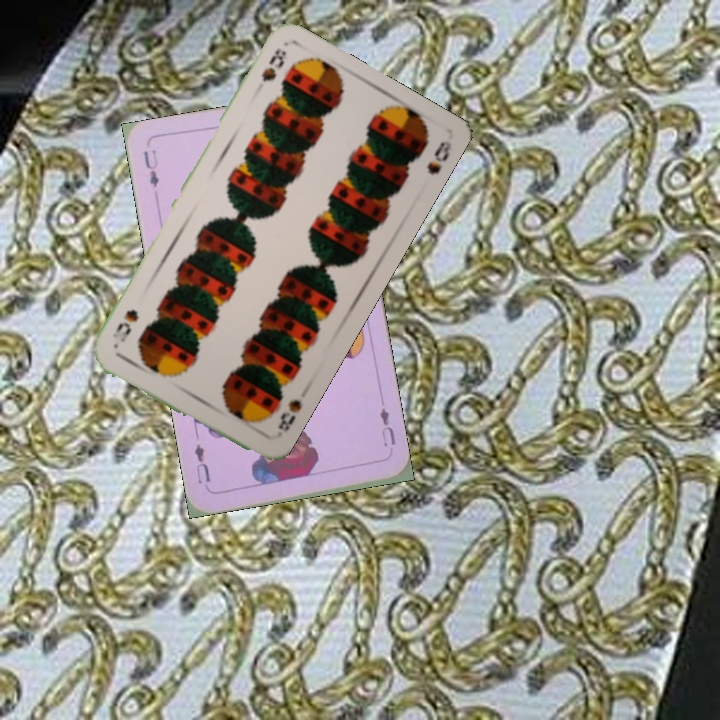EU: (376, 404, 399, 449), (139, 145, 162, 190)
S8: (257, 44, 289, 85), (274, 395, 305, 435)
